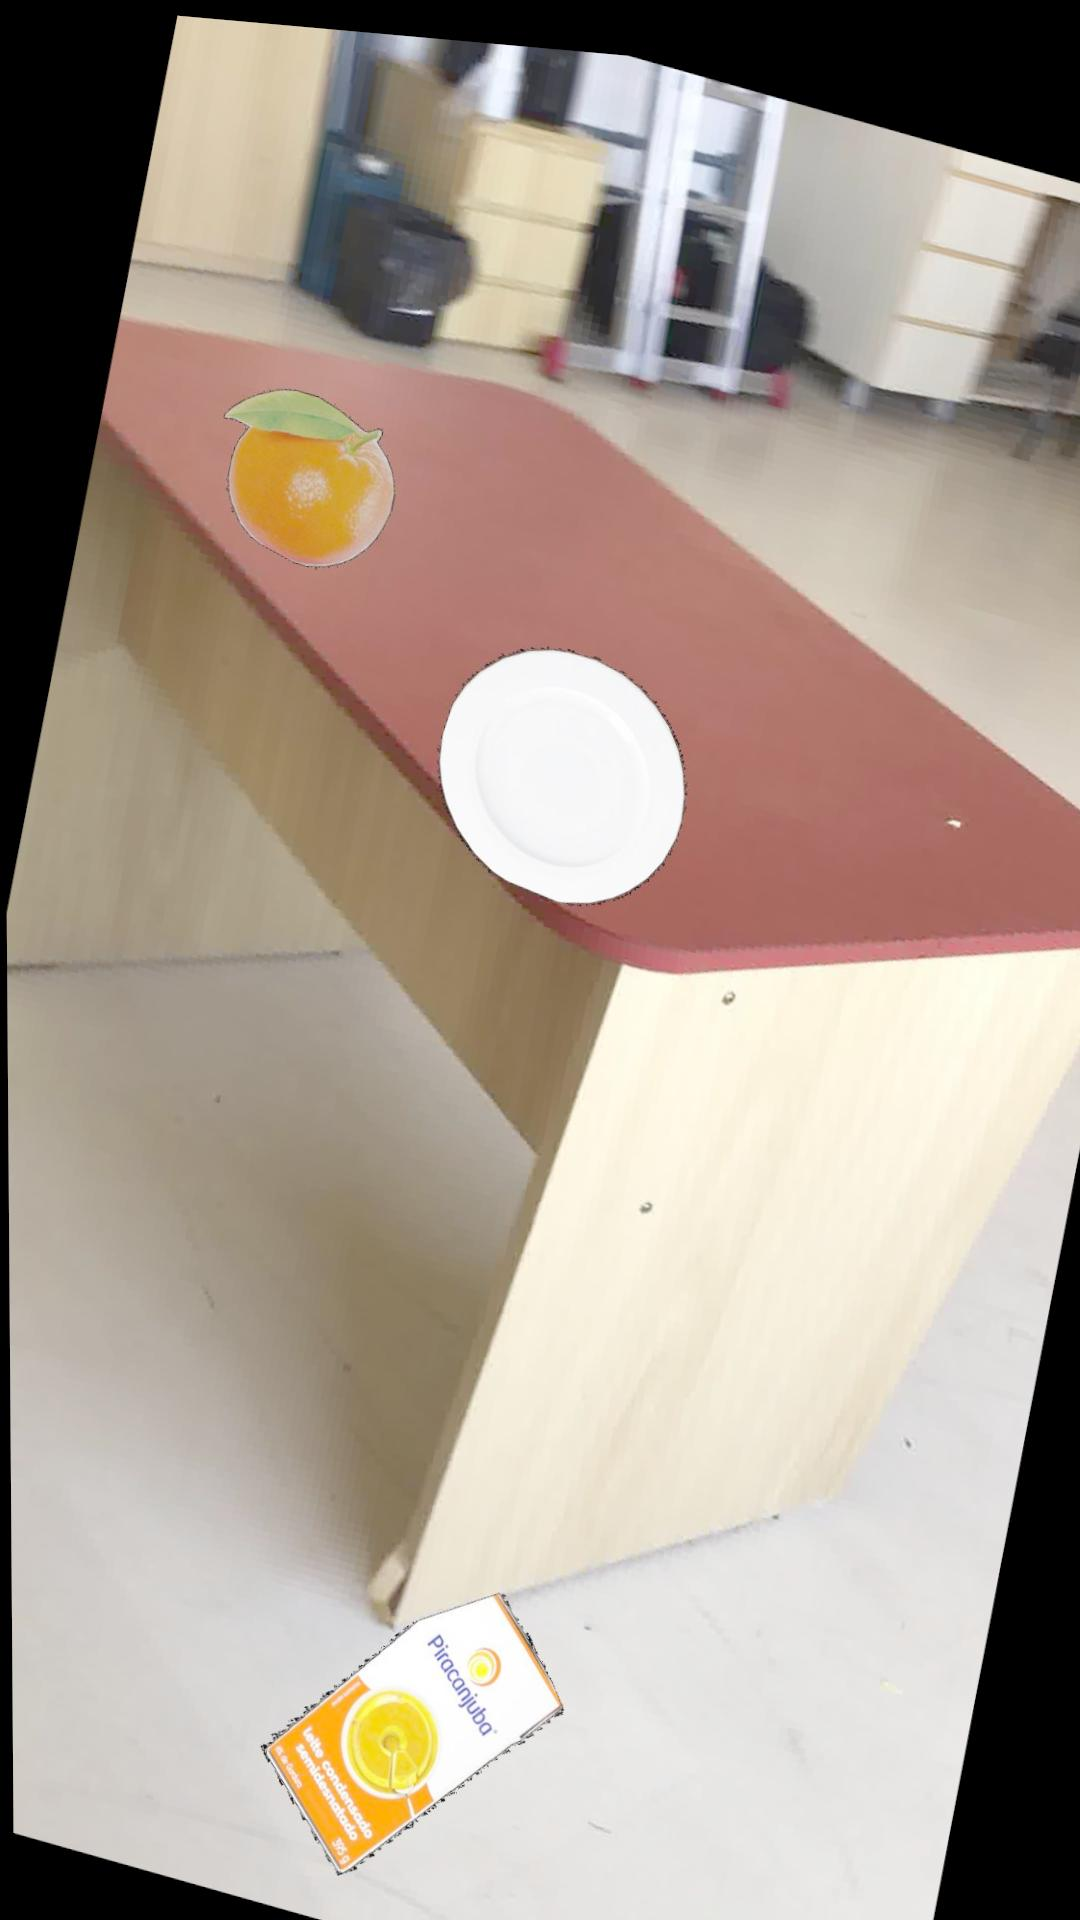orange: (224, 382, 396, 559)
plate: (438, 634, 687, 893)
